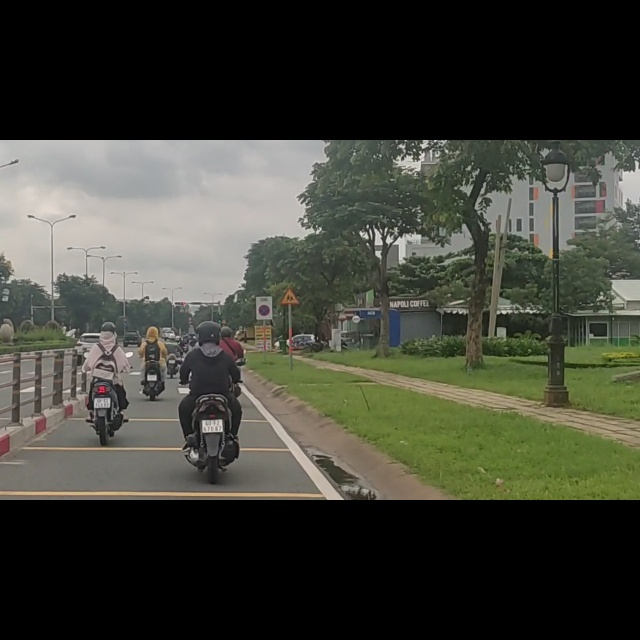bien_nguy_hiem: (281, 262, 301, 293), (258, 293, 271, 313)
